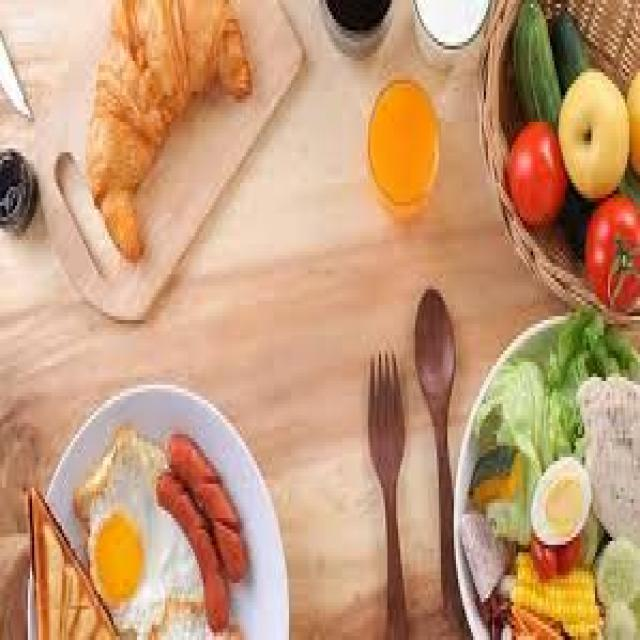organic waste: (82, 0, 250, 263), (68, 423, 240, 636), (552, 12, 614, 255), (26, 480, 118, 636), (544, 308, 634, 454), (154, 477, 227, 632), (167, 434, 244, 579), (574, 369, 638, 541), (554, 61, 628, 198), (368, 76, 439, 214), (499, 548, 595, 632), (501, 115, 563, 232), (477, 354, 548, 454), (582, 190, 638, 312), (509, 0, 561, 126), (526, 450, 593, 544), (460, 503, 512, 598), (595, 537, 638, 636), (464, 442, 518, 514), (152, 602, 242, 636), (627, 61, 638, 175)
